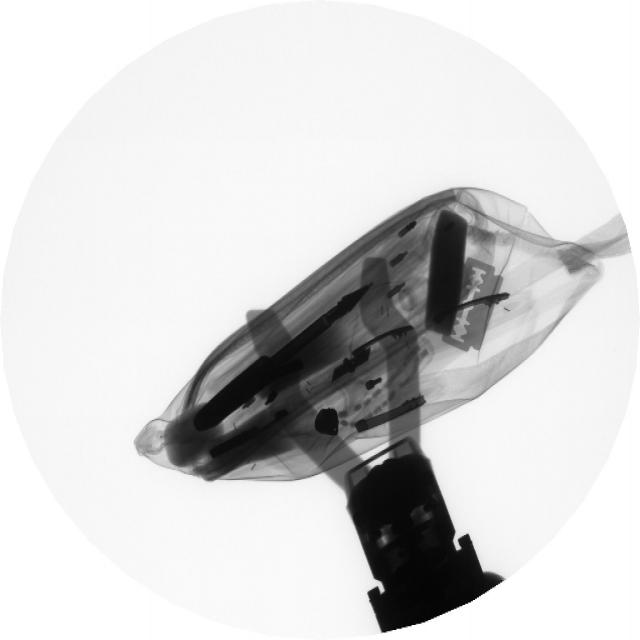BLADE: (425, 290, 505, 358), (450, 255, 509, 309)
